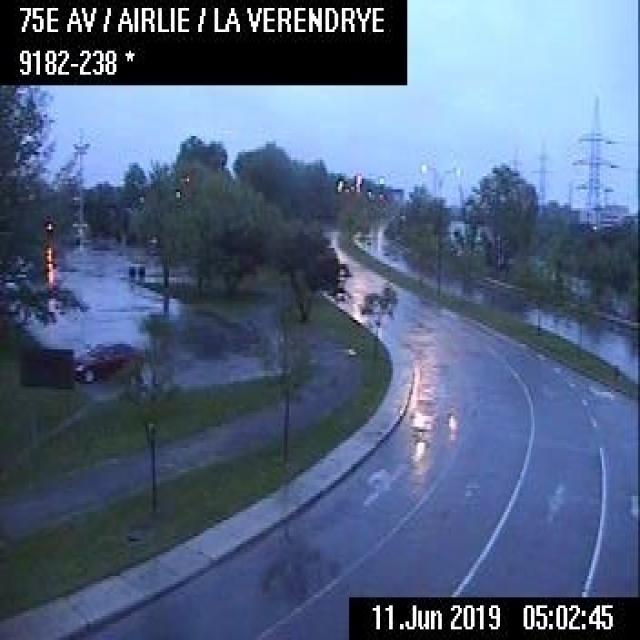vehicle: (73, 339, 146, 383)
